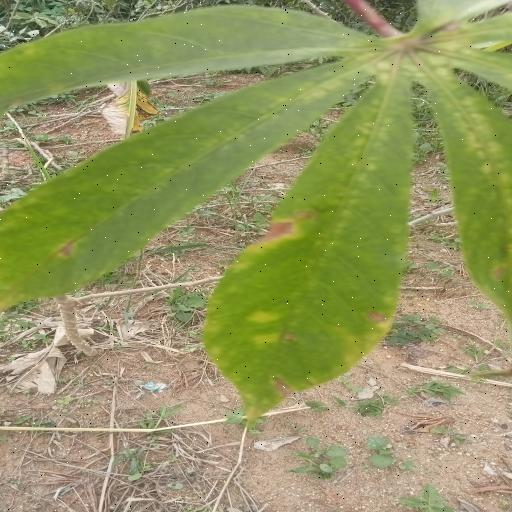Cassava_Brown_Leaf_Spot: (0, 2, 512, 436)
